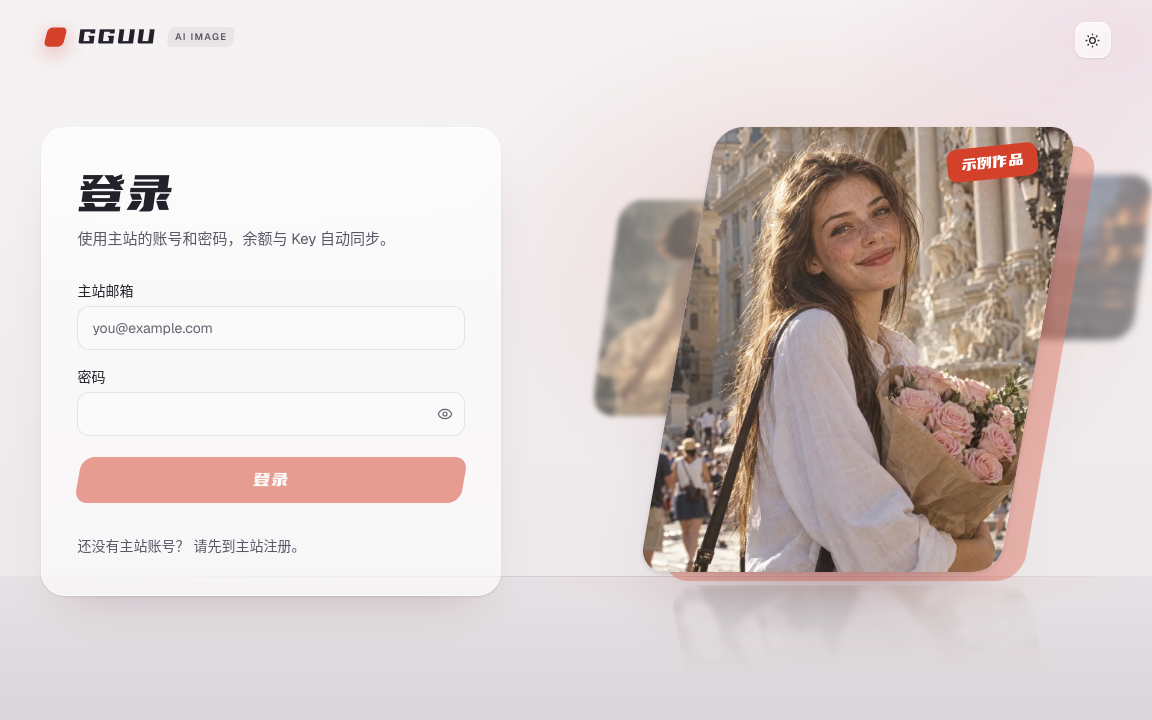
Test case: Login page › shows readable copy for wrong credentials and does not navigate
Step 1. Type "user@example.com" into the field labelled "主站邮箱" → (272, 328), box [78,306,466,350]
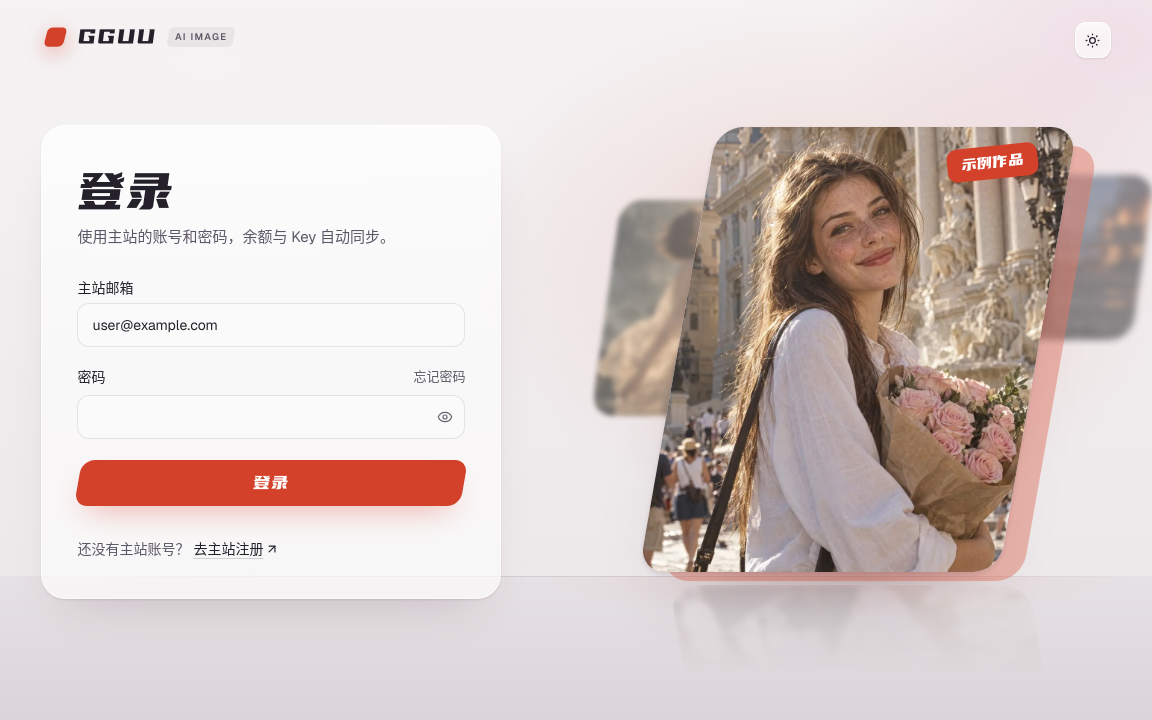
Step 2. Type "s3cret-pass" into the password field labelled "密码" → (272, 416), box [78,394,466,438]
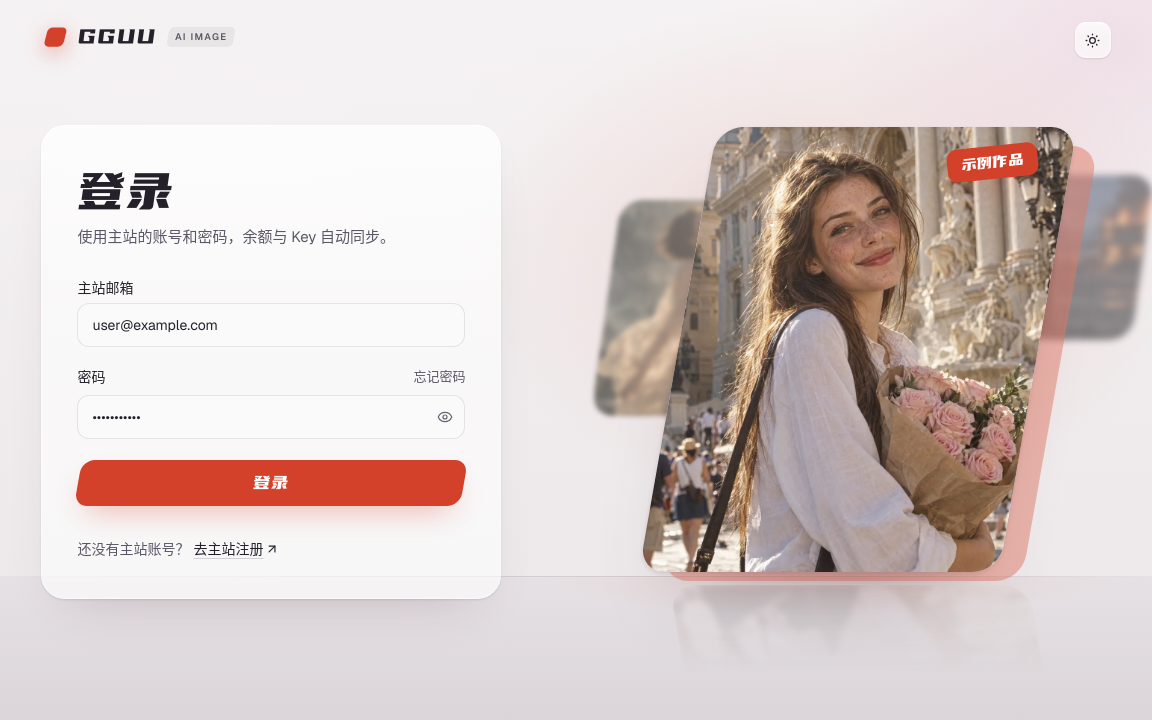
Step 3. Click the button "登录" → click(271, 482), box [73,458,470,506]
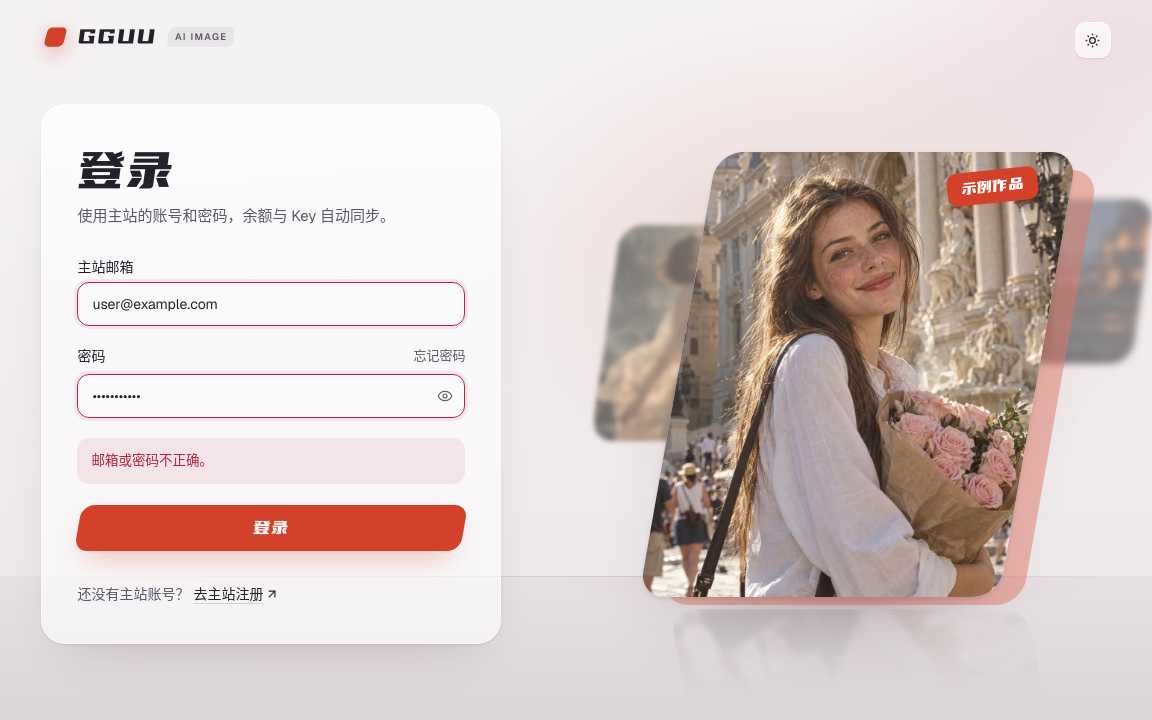
Now the message reads "邮箱或密码不正确。", box [92,451,213,469]
